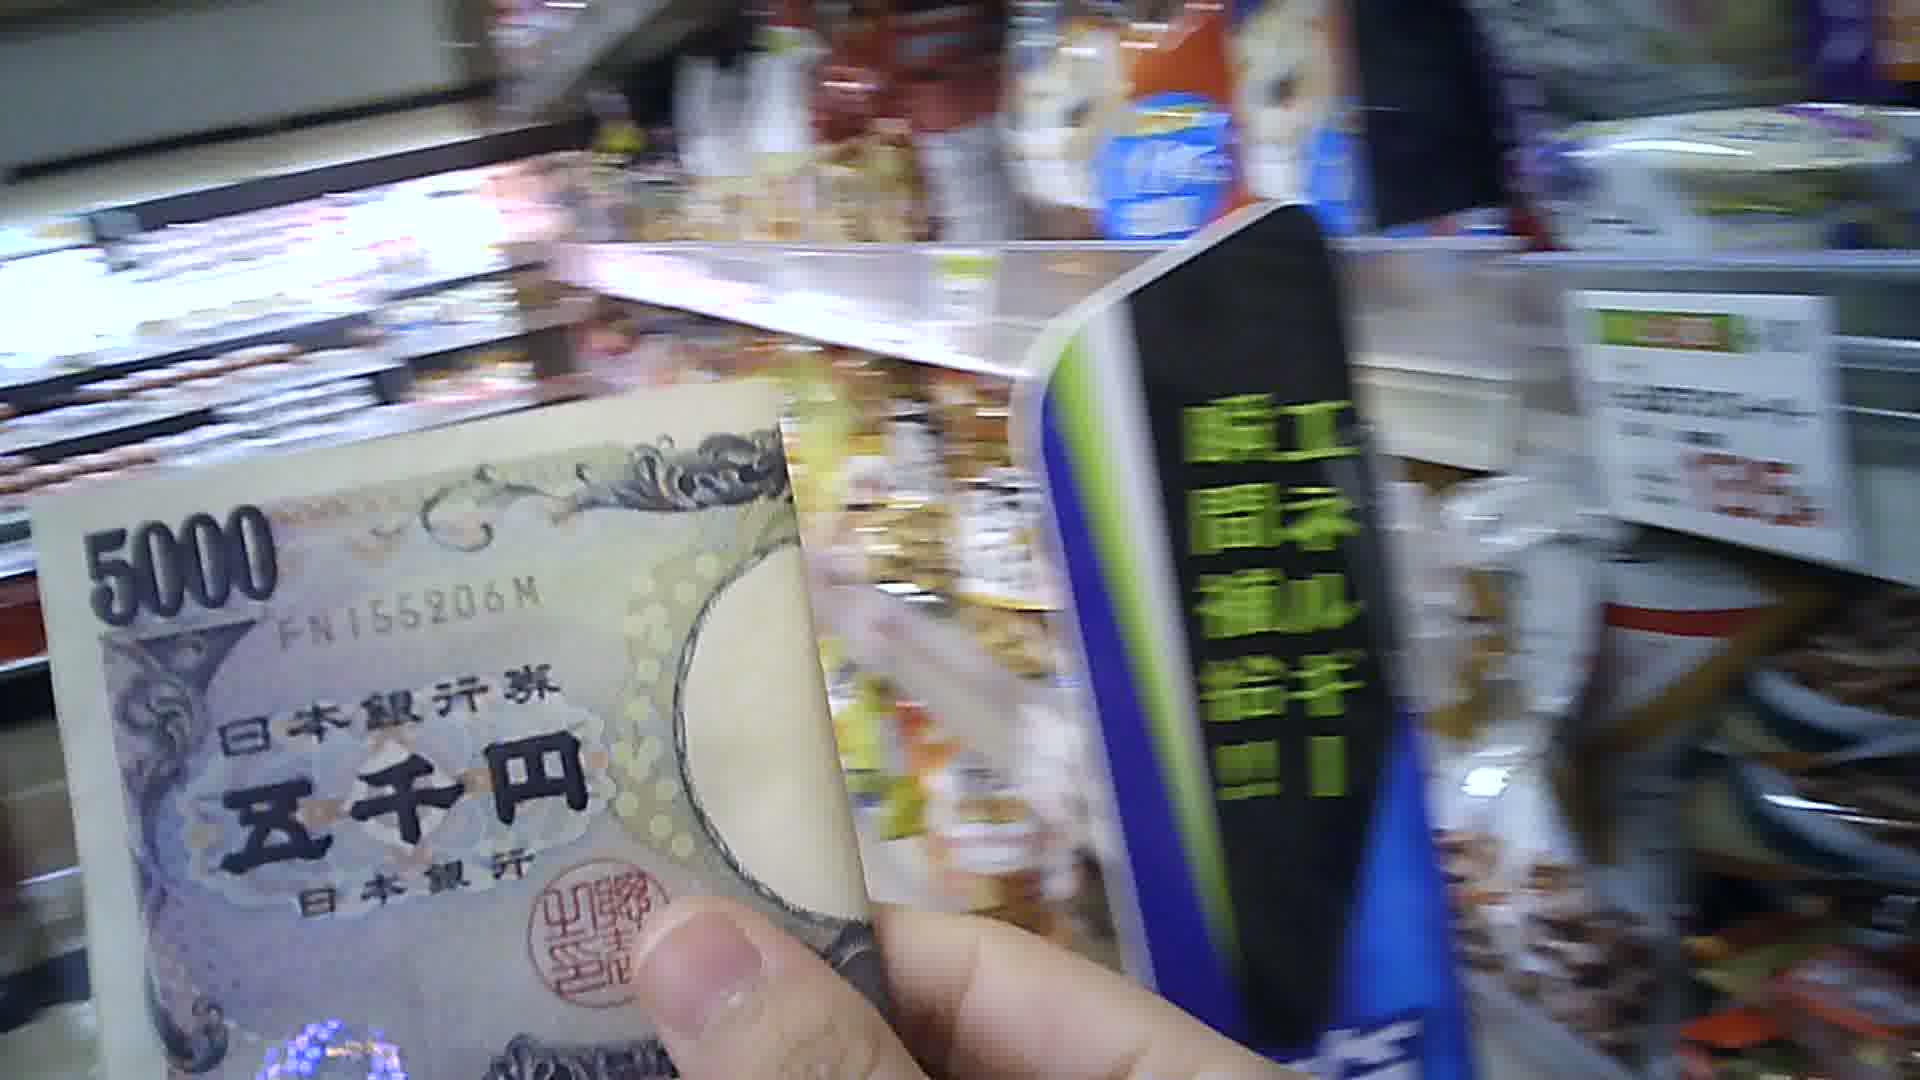5,000 Yen: (25, 392, 881, 1069)
